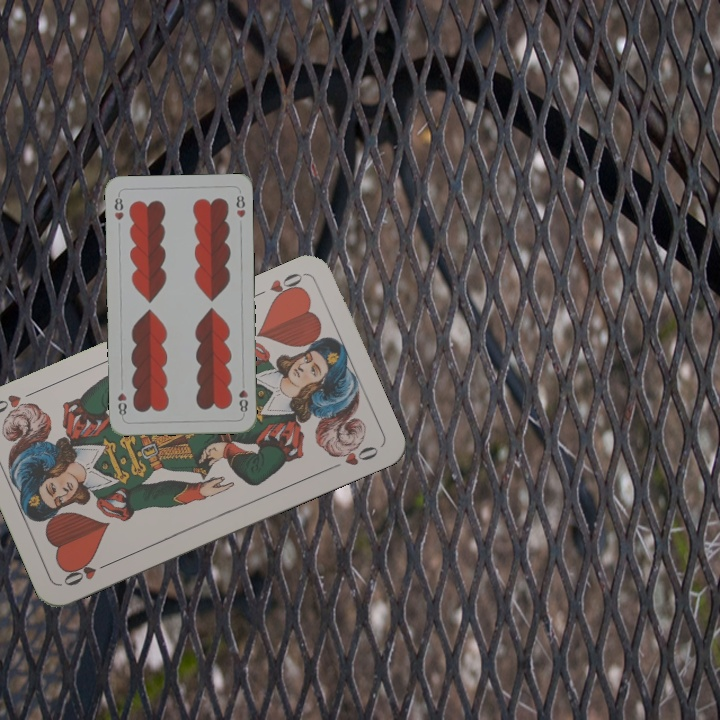H8: (235, 377, 250, 415), (110, 191, 126, 223)
HO: (250, 269, 307, 305), (59, 557, 115, 589)
